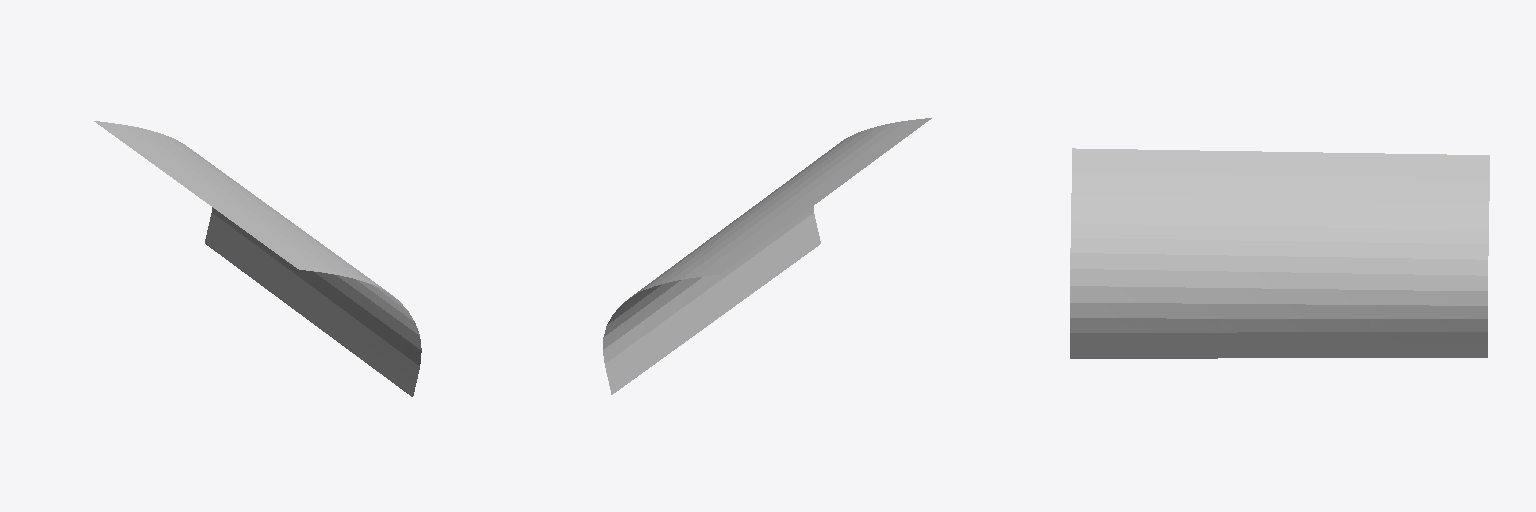
Rendered from page0004.obj.
3 renders of one model, left to right at view 1: azimuth 30°, elevation 25°; view 2: azimuth 150°, elevation 25°; view 3: azimuth 270°, elevation 25°, orthographic.
Size of the model in its own units: 170 by 205 by 503.